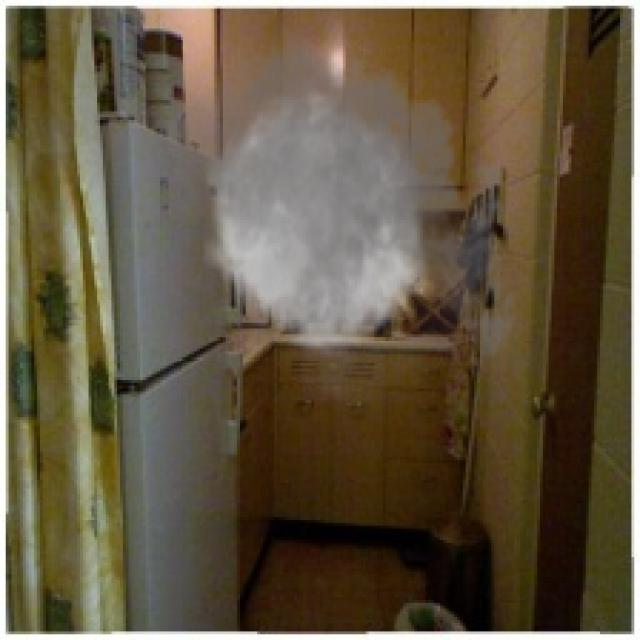smoke: (152, 14, 528, 426)
